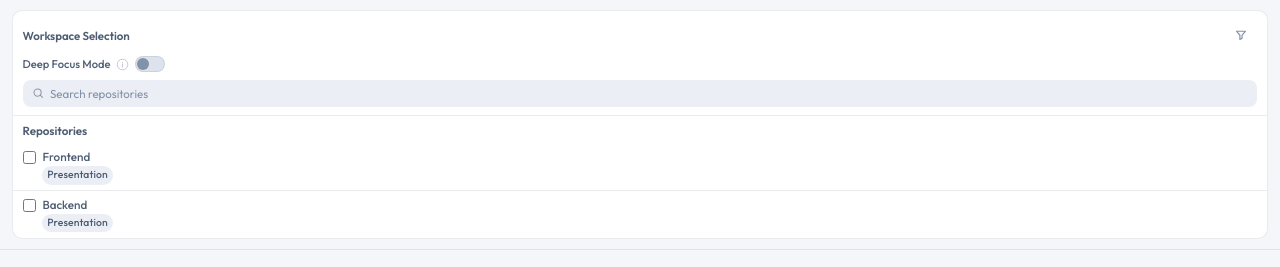
Test case: StandardFocusSelector › filters rows locally and clears search without invoking callbacks
Type "back" into the field labelled "Search repositories" at (649, 94), box [50,86,1248,102]
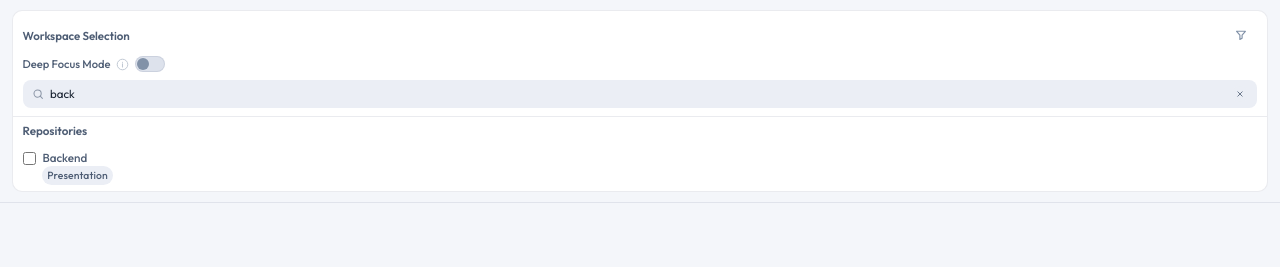
Expected: the text "Backend" is shown, [42,150,87,164]
Expected: the text "Frontend" is gone
Replace the text in the field named "Search repositories" with "missing" at (638, 94), box [50,86,1227,102]
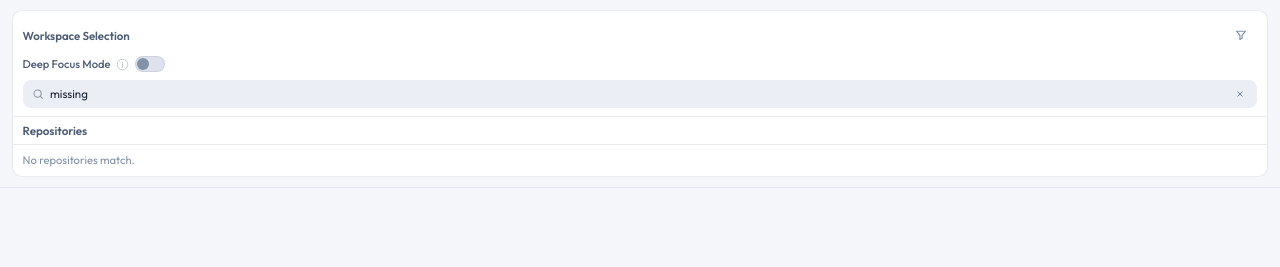
Expected: the text "No repositories match." is shown, [13,144,1267,176]
Click the button named "Clear search" at (1240, 94), box [1232,86,1248,102]
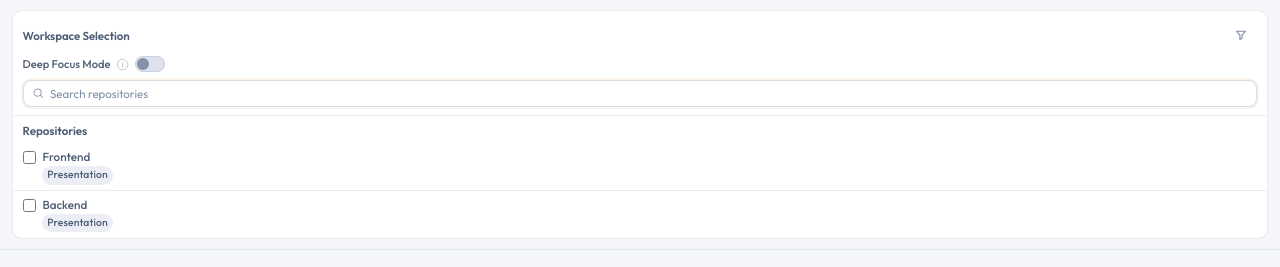
Expected: the text "Frontend" is shown, [42,149,90,164]
Expected: the text "Backend" is shown, [42,197,87,212]
